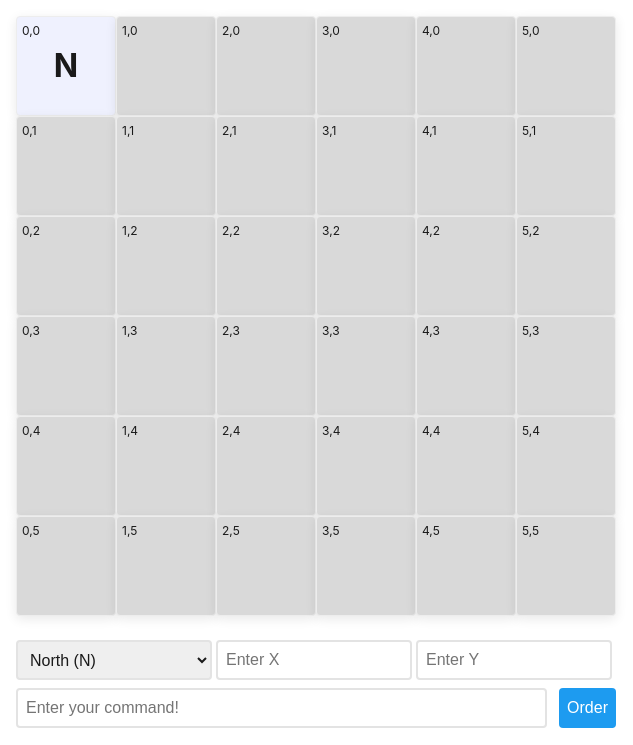
Test: App › X, Y and DIR input and state changes › DIR change
This screenshot has width=633, height=745.
Select "South (S)" in the dropdown titled "direction" at (114, 660), box [16,640,212,680]
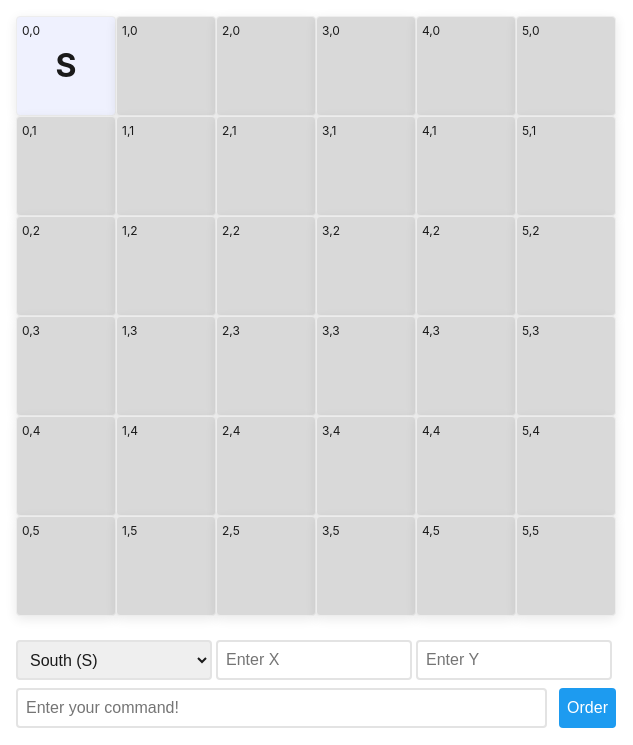
Expected: the heading titled "direction_indicator" reads "S", [56,46,76,85]
